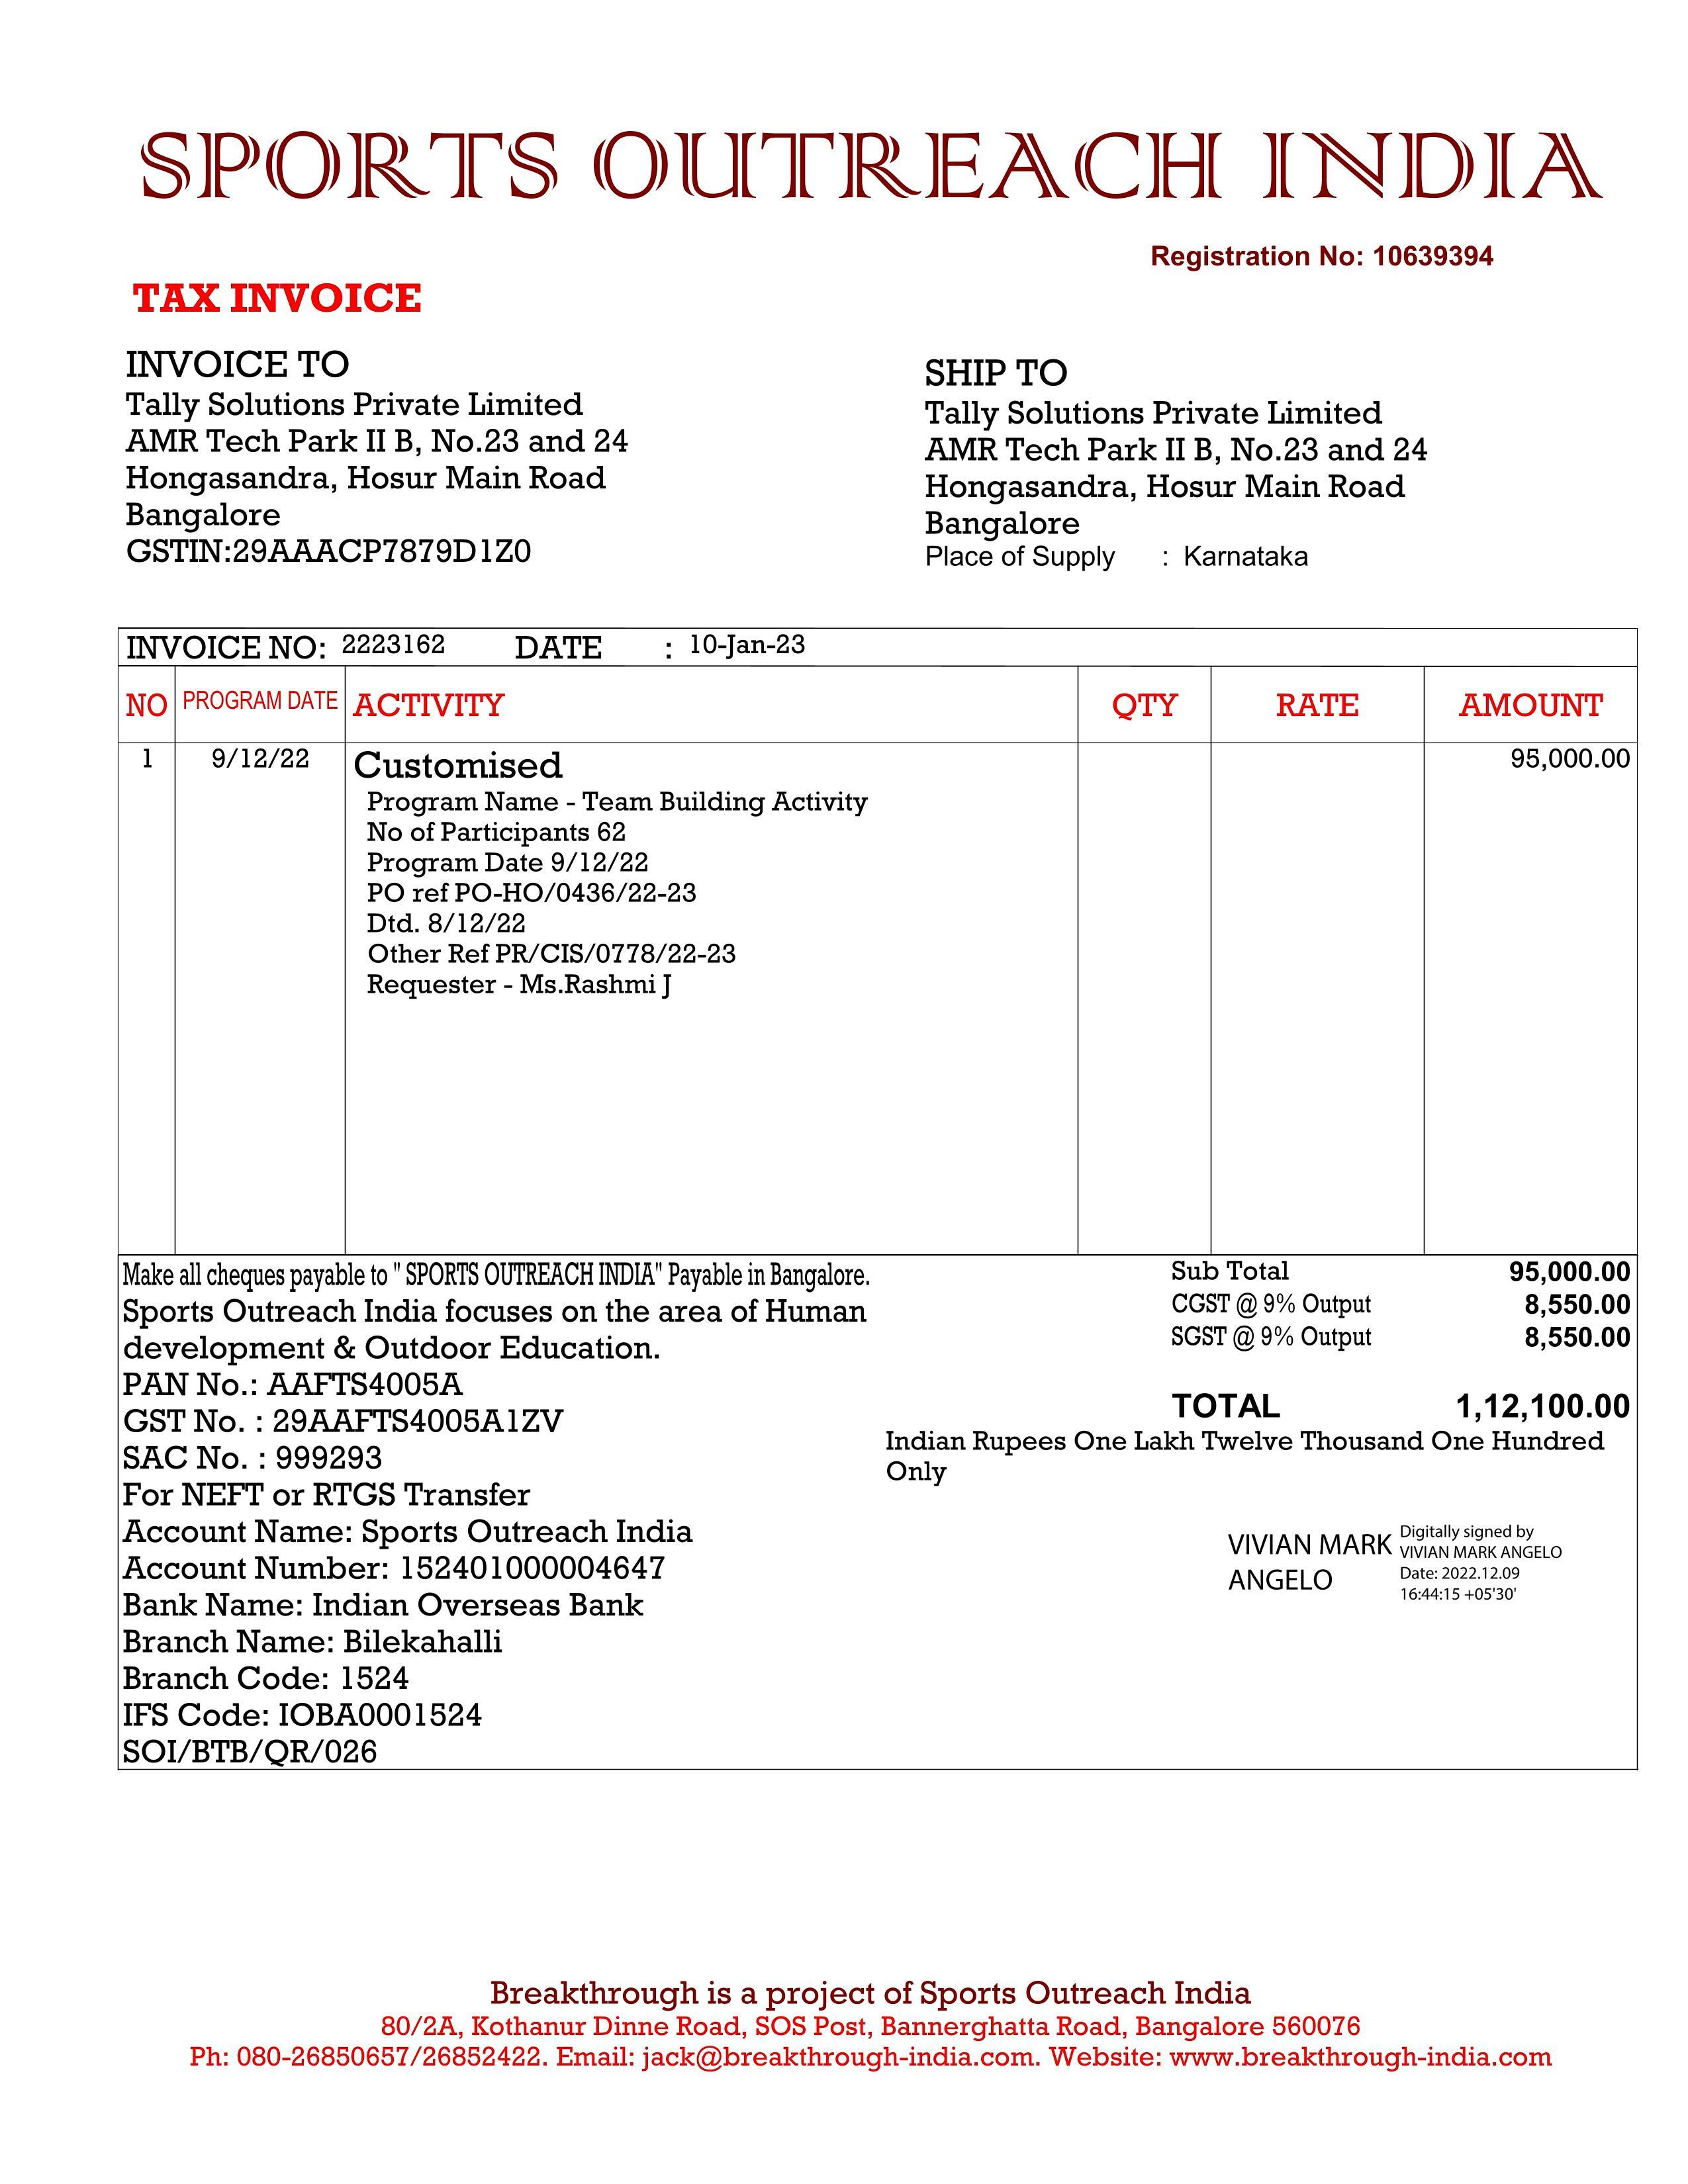InvoiceDate: (1456, 1386, 1635, 1429), (688, 629, 807, 663)
InvoiceNumber: (337, 629, 450, 659)
